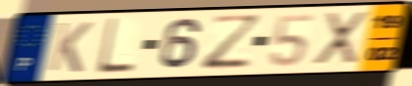5: (268, 12, 316, 68)
6: (159, 16, 203, 71)
K: (45, 20, 95, 74)
L: (94, 16, 136, 76)
X: (310, 10, 370, 67)
Z: (199, 13, 266, 73)
